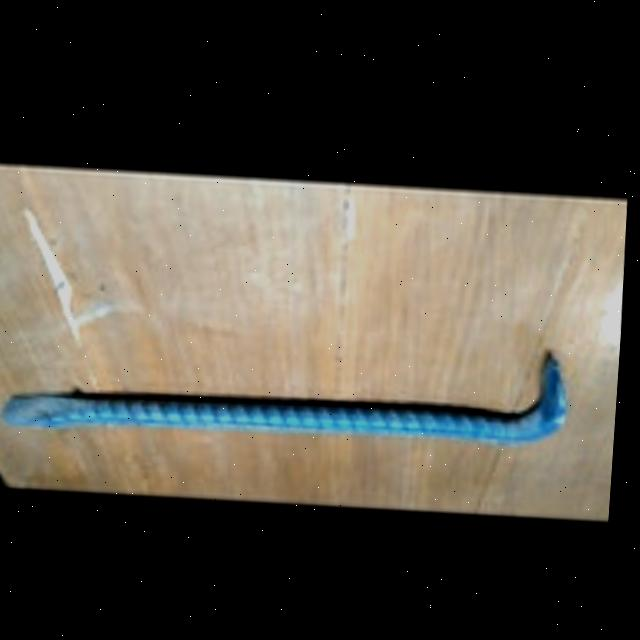crow bar: (2, 311, 577, 459)
